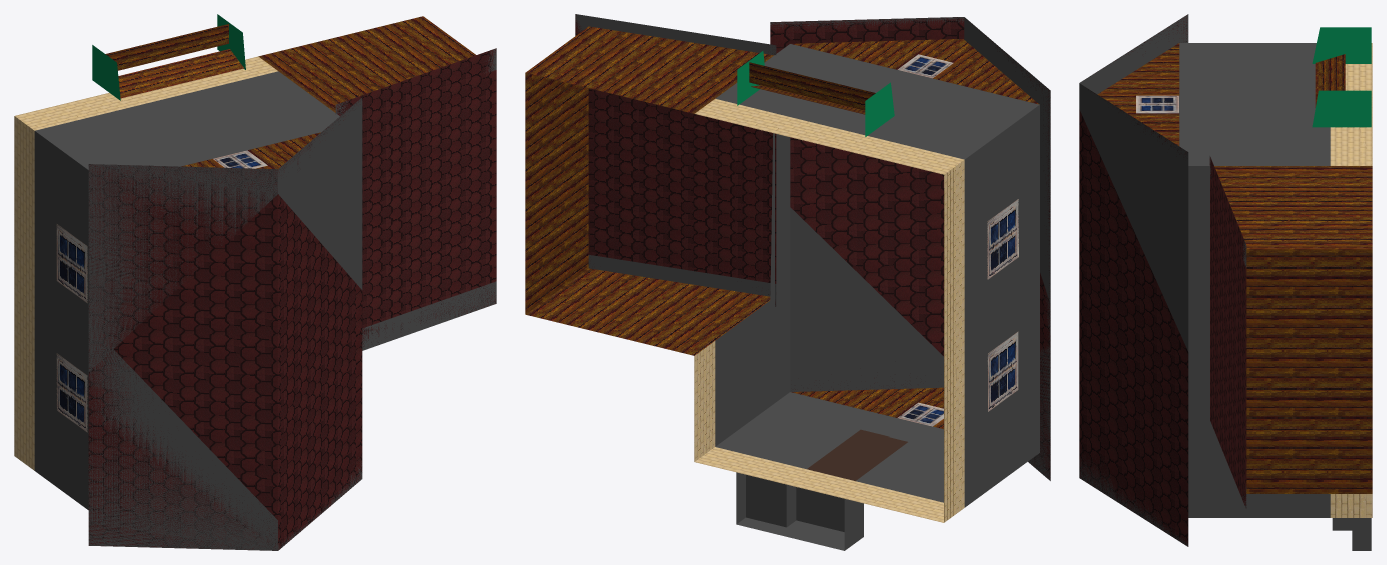
File: house.fbx
3 views of the same model, side by side, from view 1: azimuth 30°, elevation 25°; view 2: azimuth 150°, elevation 25°; view 3: azimuth 270°, elevation 25° (orthographic). The views are drawn at different scales.
Visible parts, largest first — view 1: Cube_004, Cube_013, Cube, Cube_011, Cube_010, Plane_001, Cube_016, Plane_005; view 2: Cube, Cube_004, Cube_011, Cube_013, Cube_010, Cube_014, Cube_016, Plane_001, Cube_003, Plane_005; view 3: Cube_011, Cube_004, Cube, Cube_013, Plane_005, Cube_010, Plane_001, Cube_014, Cube_016.
Part boxes in pixels (<box>): Cube_004: <box>88,48,496,550</box>; Cube_013: <box>88,48,496,550</box>; Cube: <box>34,71,339,509</box>; Cube_011: <box>181,16,476,169</box>; Cube_010: <box>14,56,277,470</box>; Plane_001: <box>105,24,243,98</box>; Cube_016: <box>56,150,267,432</box>; Plane_005: <box>92,14,245,100</box>; Cube: <box>715,44,1039,507</box>; Cube_004: <box>575,14,1050,479</box>; Cube_011: <box>525,26,1039,429</box>; Cube_013: <box>575,14,1050,480</box>; Cube_010: <box>694,98,964,522</box>; Cube_014: <box>736,472,863,550</box>; Cube_016: <box>897,54,1018,426</box>; Plane_001: <box>749,62,875,114</box>; Cube_003: <box>807,429,907,480</box>; Plane_005: <box>737,51,894,136</box>; Cube_011: <box>1097,43,1372,493</box>; Cube_004: <box>1079,15,1246,546</box>; Cube: <box>1179,43,1330,517</box>; Cube_013: <box>1079,14,1246,546</box>; Plane_005: <box>1312,27,1371,127</box>; Cube_010: <box>1330,43,1372,517</box>; Plane_001: <box>1315,54,1345,107</box>; Cube_014: <box>1332,518,1371,550</box>; Cube_016: <box>1136,95,1178,113</box>.
Size of the model in its own units: 5.36 by 5.23 by 3.02.
7 materials, 4 textured.
